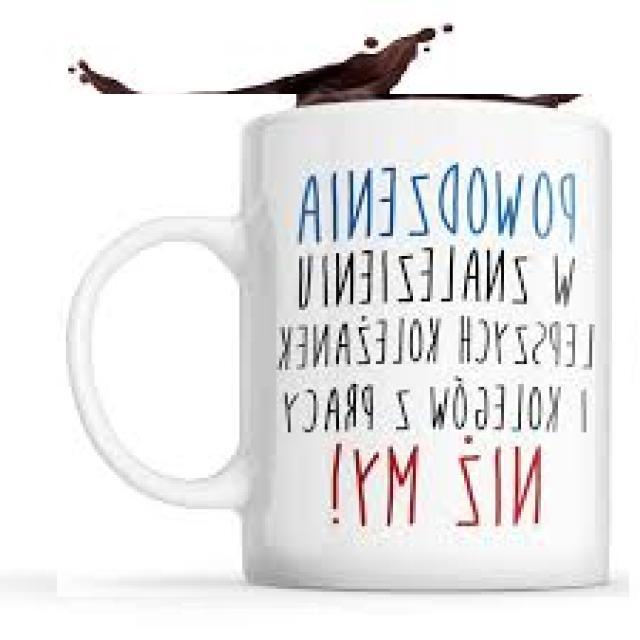Coffee Mug: (66, 101, 614, 590)
